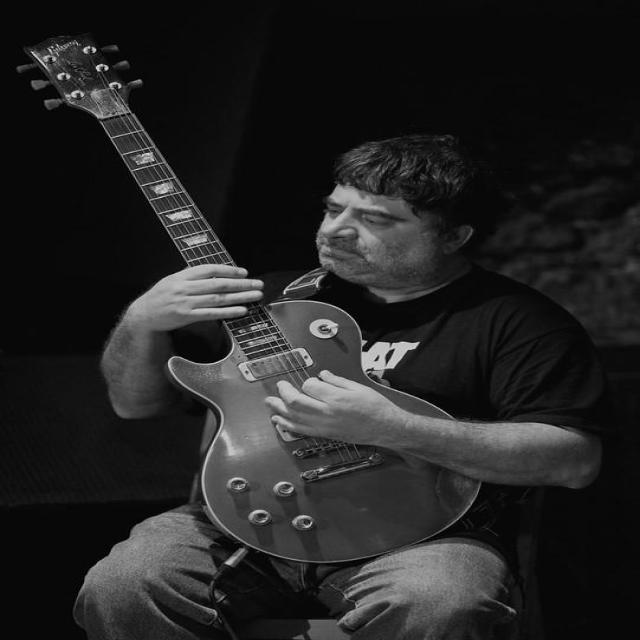guitar: (167, 301, 480, 562)
